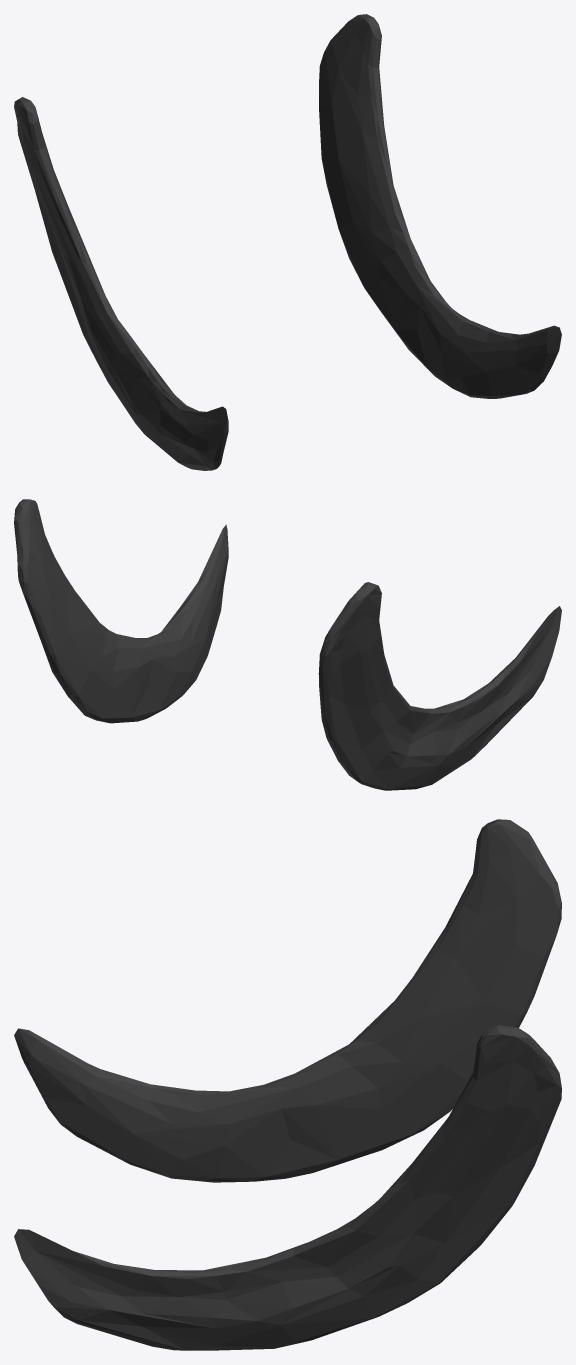
File: b_scapular_cartilage.glb
3 renders of one model, top to bottom at view 1: azimuth 30°, elevation 25°; view 2: azimuth 150°, elevation 25°; view 3: azimuth 270°, elevation 25°, orthographic. The views are drawn at different scales.
Parts seen in each view (by area): view 1: b_scapular_cartilage; view 2: b_scapular_cartilage; view 3: b_scapular_cartilage.
Part boxes in pixels (left/top/right/bottom): b_scapular_cartilage: left=14, top=14, right=561, bottom=470; b_scapular_cartilage: left=14, top=499, right=561, bottom=790; b_scapular_cartilage: left=14, top=819, right=561, bottom=1350.
Size of the model in its own units: 0.0022 by 0.00165 by 0.00238.
Materials: 1 (1 with a texture image).
